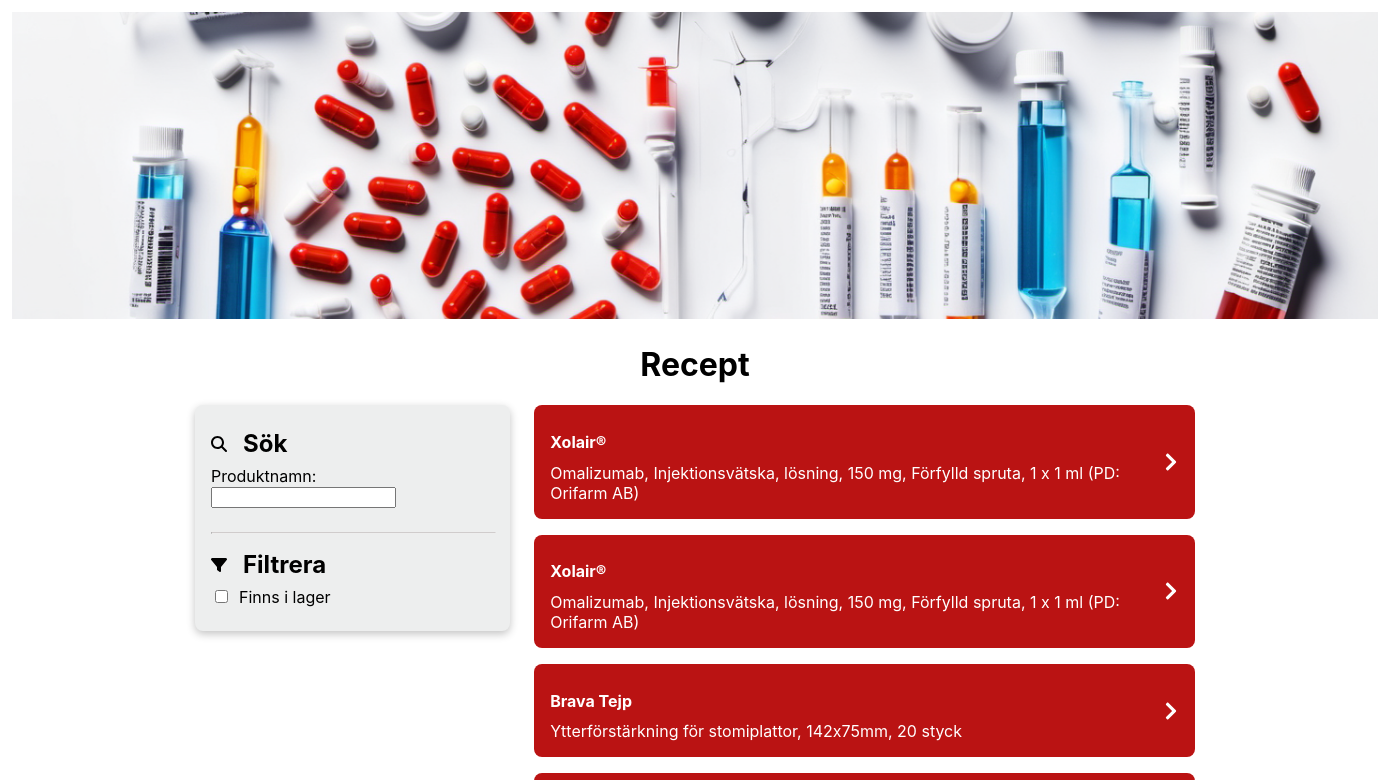
Scenario: Testing filtering and search logic › should show correct items when filtering on stock
The width and height of the screenshot is (1390, 780).
Check the checkbox with test id "filter": (222, 597) [215,590,228,603]
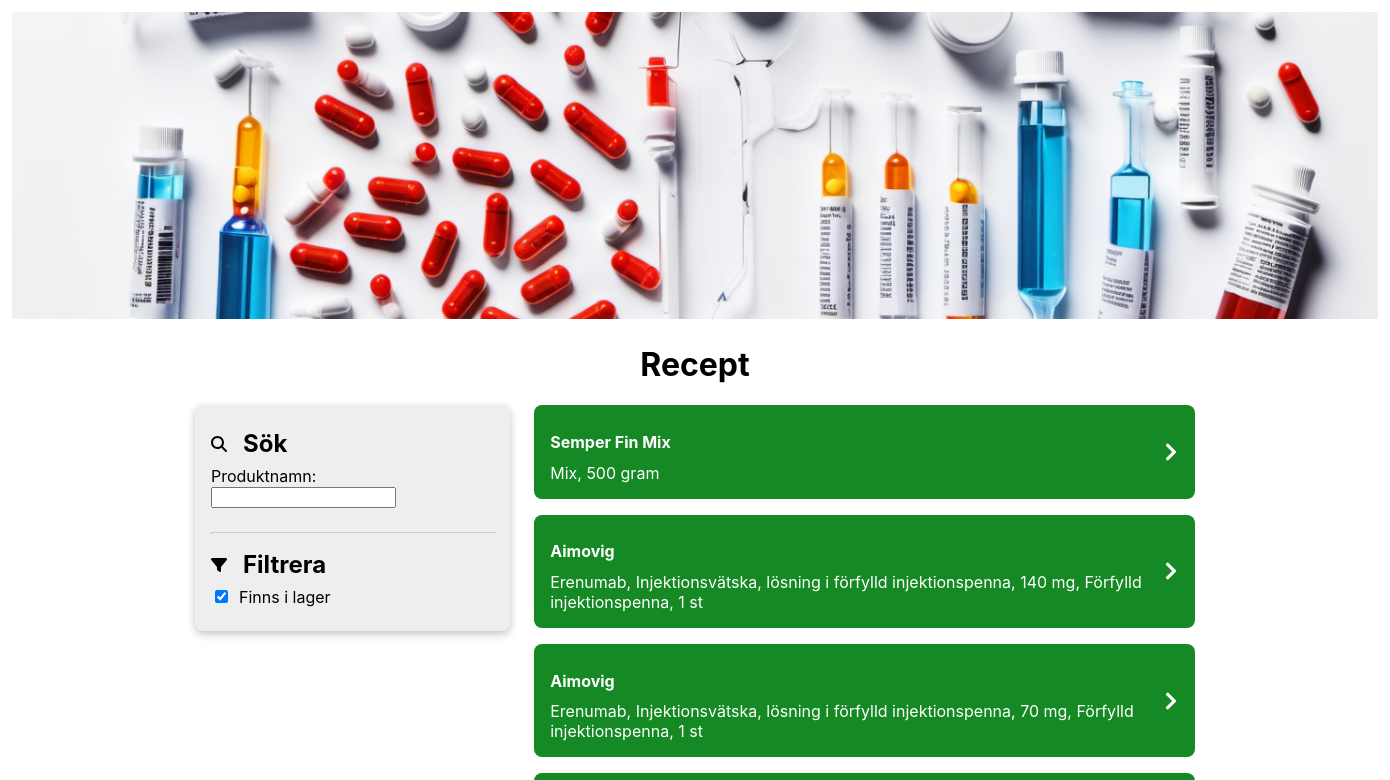
Expected: the list item with class "in-stock" showing "Semper Fin Mix Mix, 500 gram" is shown, [534,405,1195,498]
Expected: the list item with class "out-of-stock" is gone
